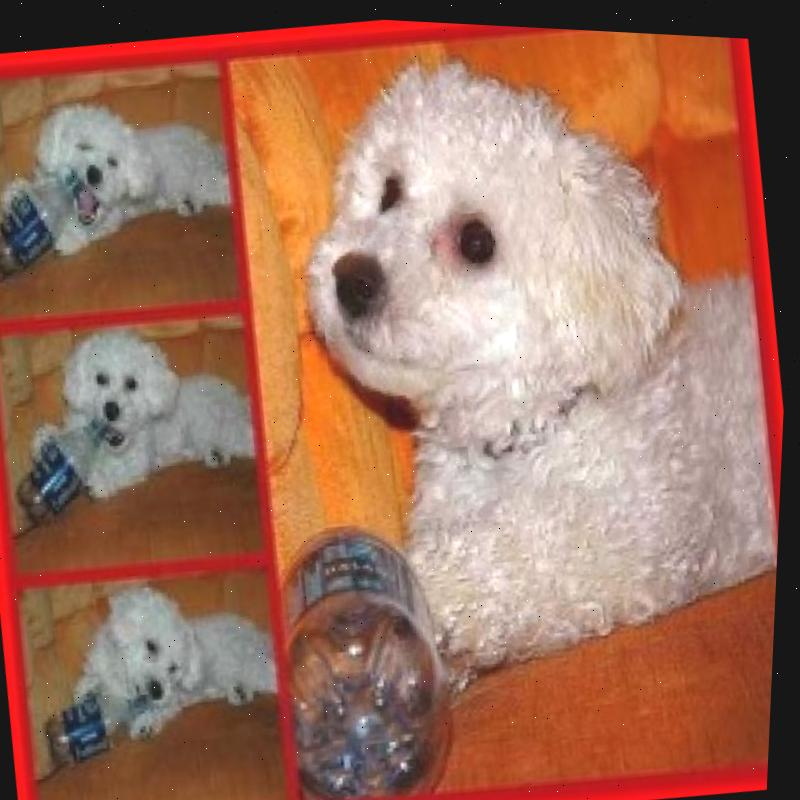botella: (269, 509, 473, 800), (7, 412, 124, 529), (0, 166, 96, 283), (43, 680, 165, 769)
